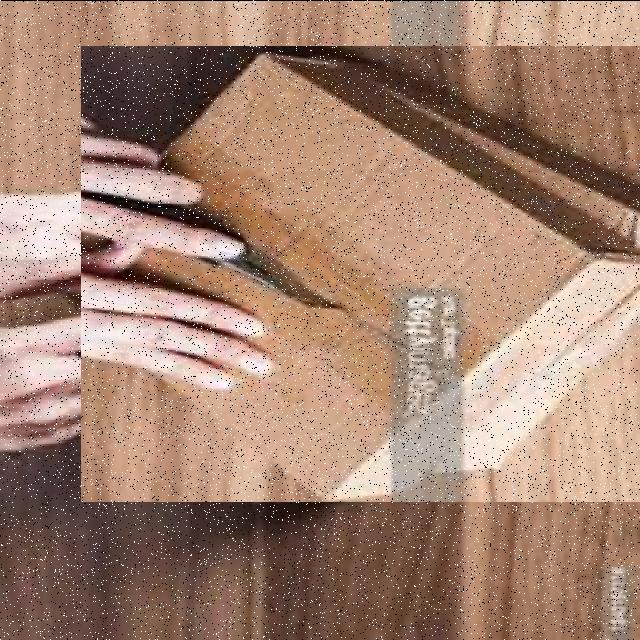normal: (81, 45, 640, 501)
